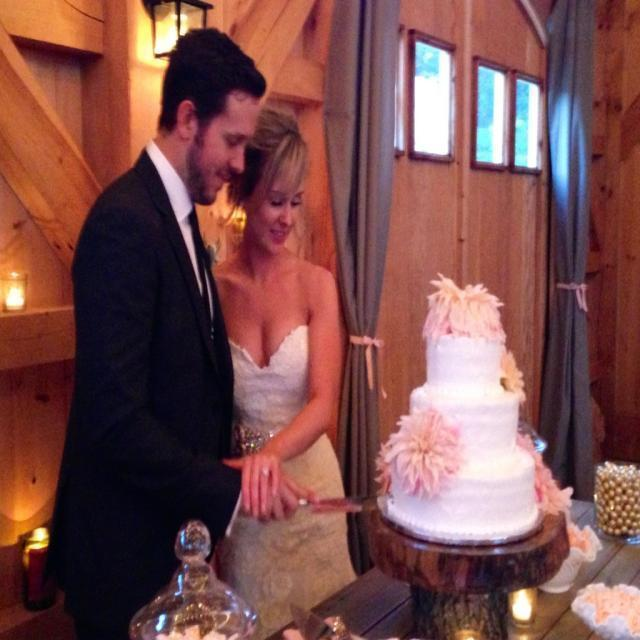Cake: (386, 333, 536, 539)
